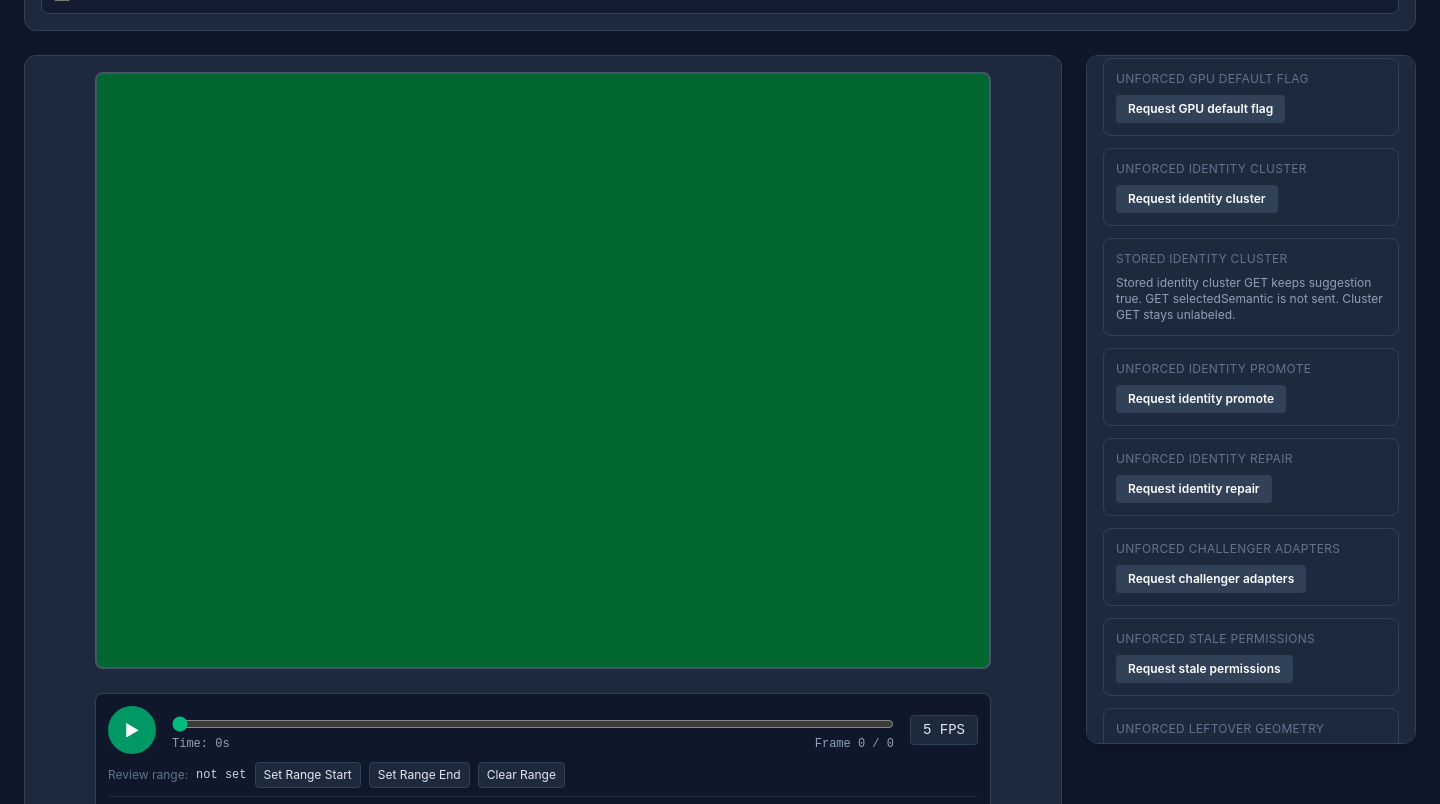
Test: App leftover HTTP surfaces › loads stored identity cluster and posts identity promote and repair without leftover selectedSemantic, reviewed true, or trackId
(page scrolled)
Step 1. Click the button "Request identity promote" → (1201, 399), box [1116,385,1286,413]
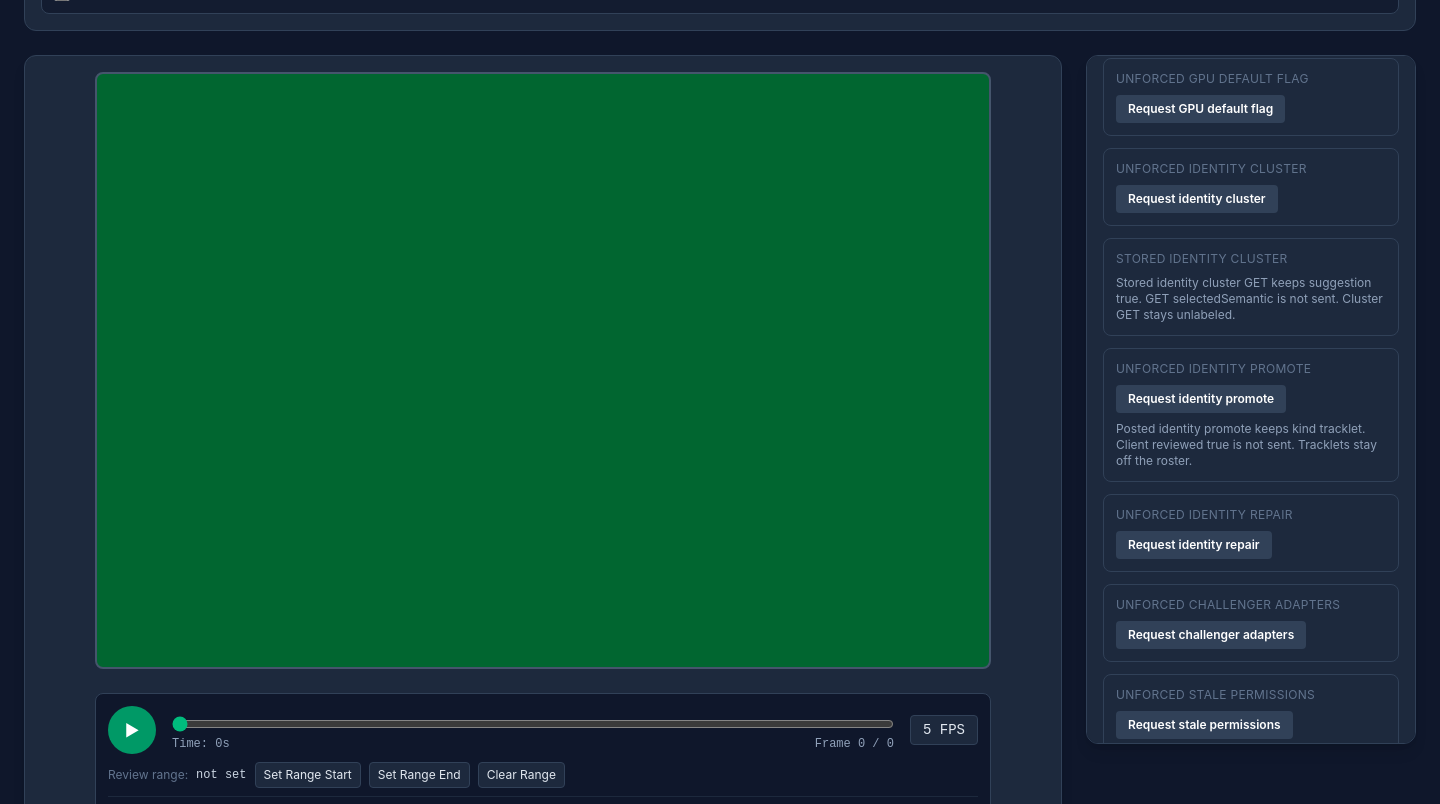
Step 2. Click the button "Request identity repair" → (1194, 545), box [1116,531,1272,559]
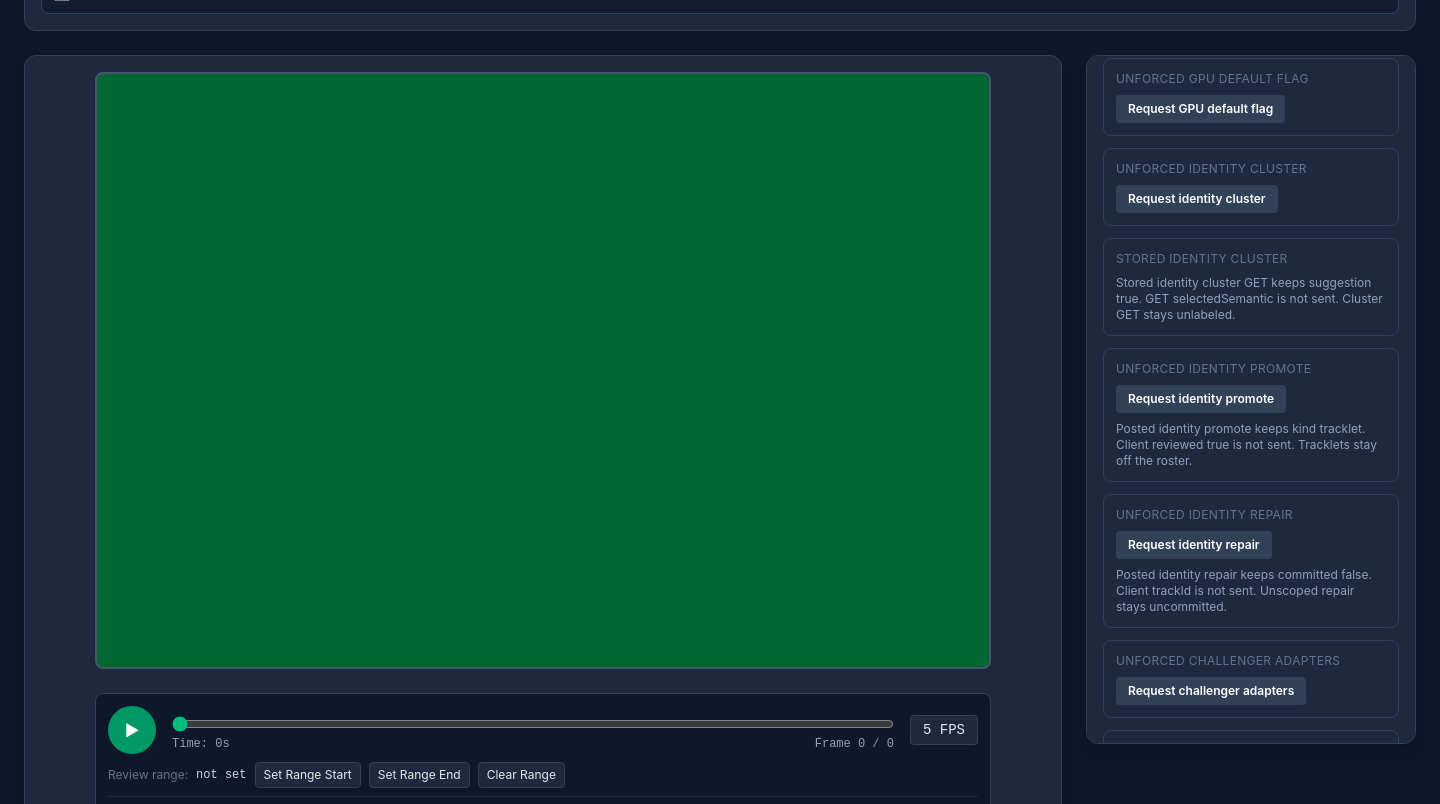
Expected: the text "Cluster GET stays unlabeled" is shown, [1116,275,1383,322]
Now the text "Tracklets stay off the roster" is shown, box [1116,421,1377,468]
Now the text "Unscoped repair stays uncommitted" is shown, box [1116,567,1372,614]
